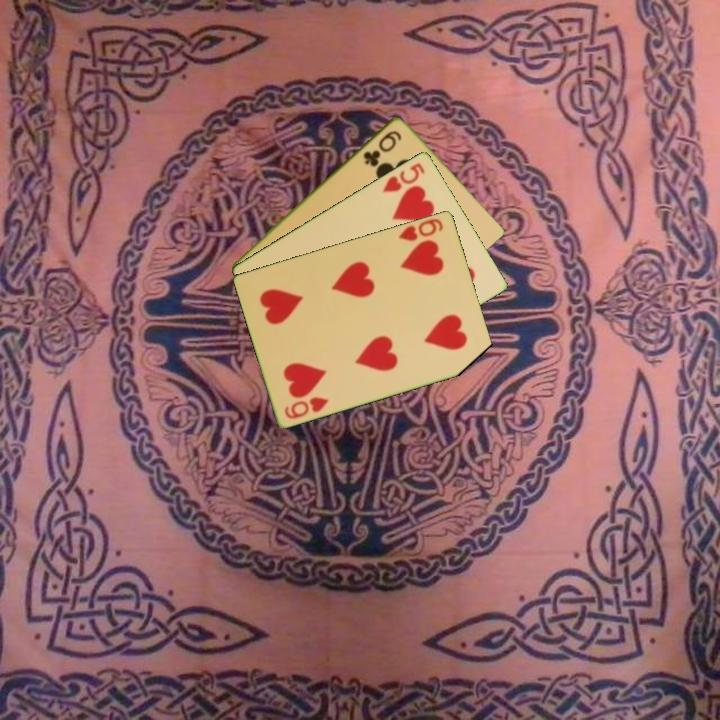5h: (379, 158, 428, 195)
6c: (359, 126, 405, 169)
6h: (395, 215, 446, 244), (281, 393, 332, 422)
